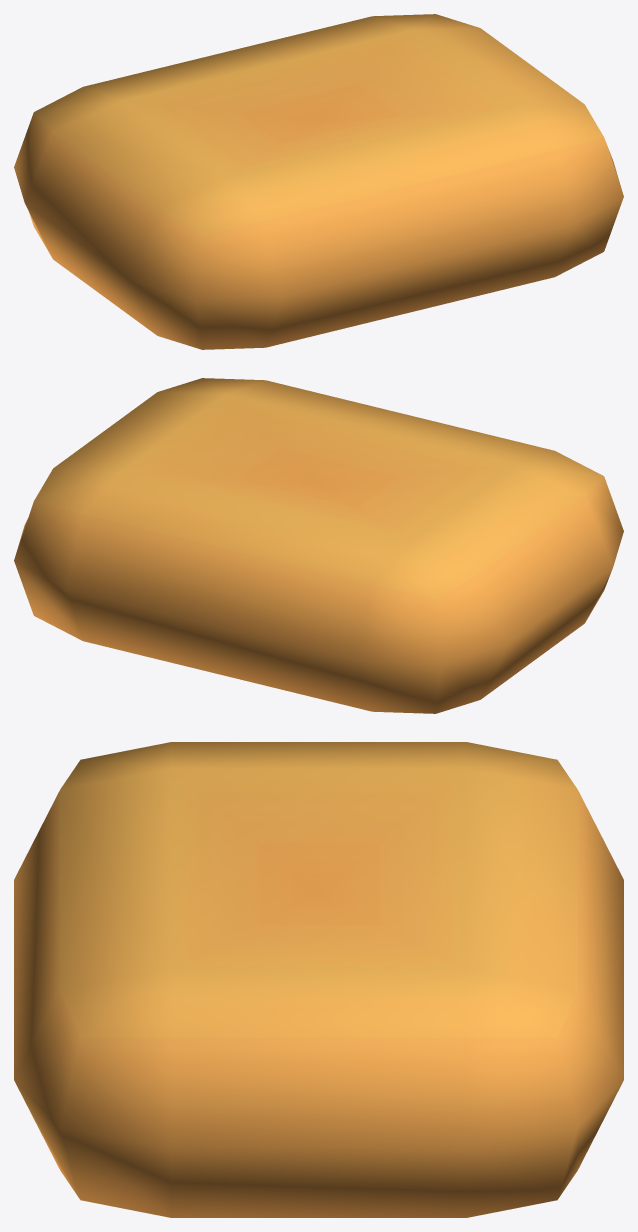
Rendered from kudde.glb.
The picture shows the model from 3 angles, top to bottom: view 1: azimuth 30°, elevation 25°; view 2: azimuth 150°, elevation 25°; view 3: azimuth 270°, elevation 25°; orthographic projection. The views are drawn at different scales.
Visible parts, largest first — view 1: pillow_A; view 2: pillow_A; view 3: pillow_A.
Boxes of the visible parts, x1,y1,x2,y2 form: pillow_A: [14, 14, 623, 349]; pillow_A: [14, 378, 623, 713]; pillow_A: [14, 742, 623, 1217].
Bounding box in the file's own units: 0.65 × 0.2 × 0.5.
Materials: 1 (1 with a texture image).
